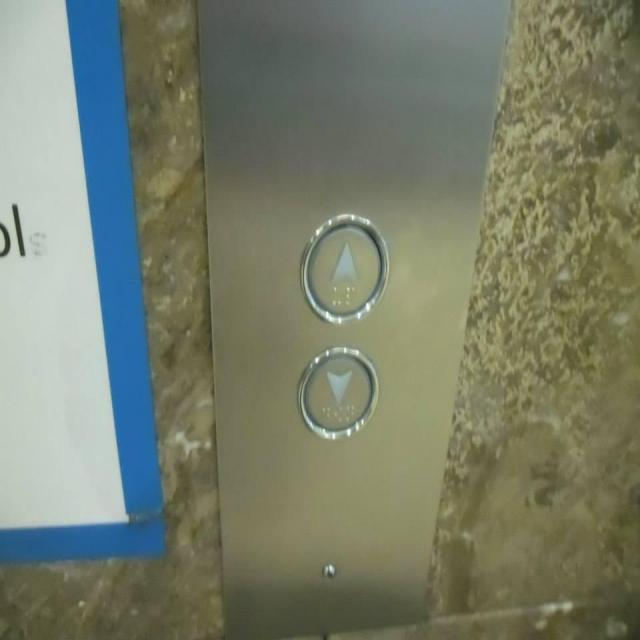down: (295, 342, 379, 443)
up: (296, 213, 390, 327)
